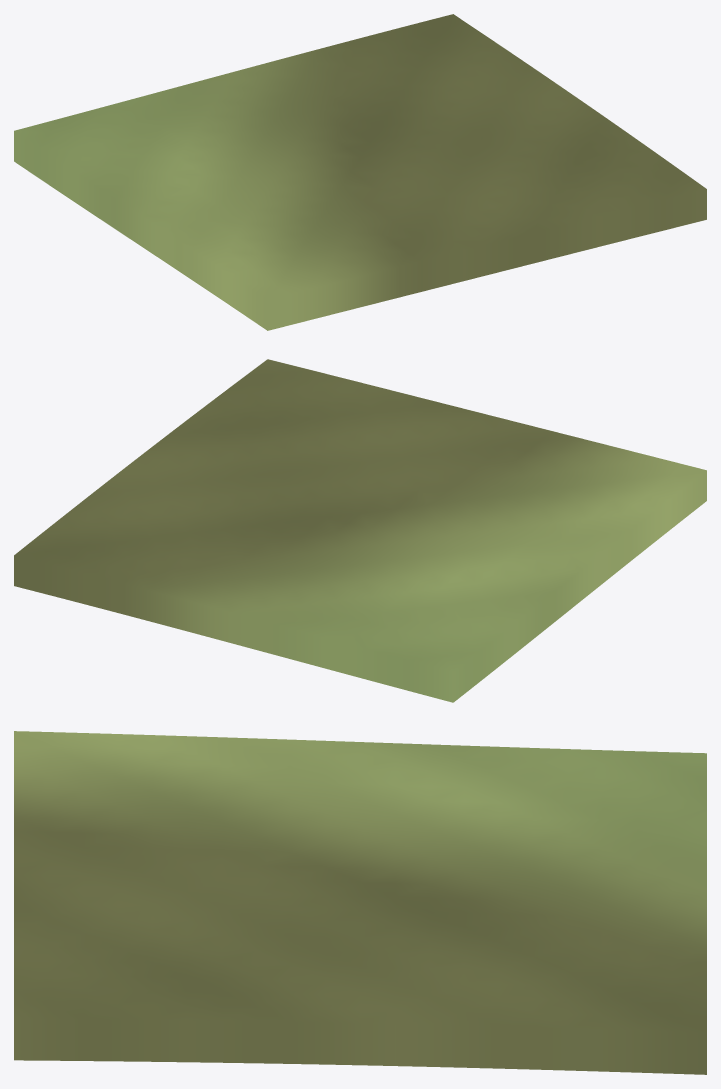
The picture shows the model from 3 angles, top to bottom: view 1: azimuth 30°, elevation 25°; view 2: azimuth 150°, elevation 25°; view 3: azimuth 270°, elevation 25°; orthographic projection. The views are drawn at different scales.
Parts seen in each view (by area): view 1: terrain; view 2: terrain; view 3: terrain.
Boxes of the visible parts, x1,y1,x2,y2 form: terrain: (14,14,706,330); terrain: (14,359,706,702); terrain: (14,731,706,1074).
Size of the model in its own units: 30 by 3.32 by 30.
